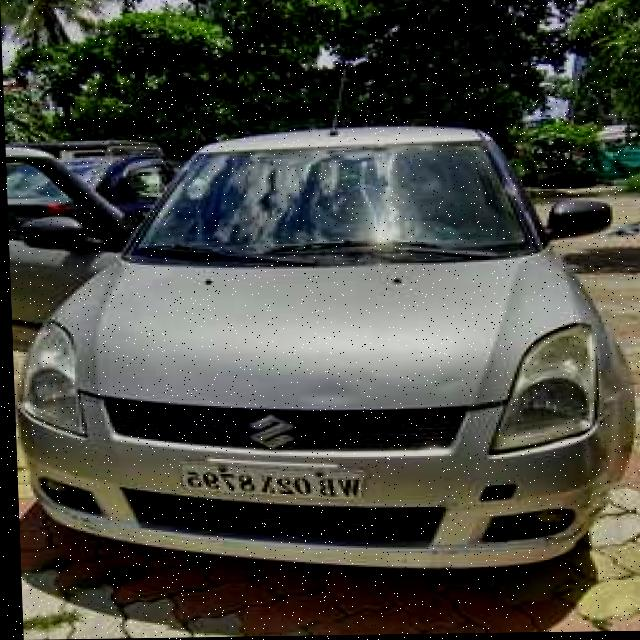plate: (175, 460, 358, 504)
